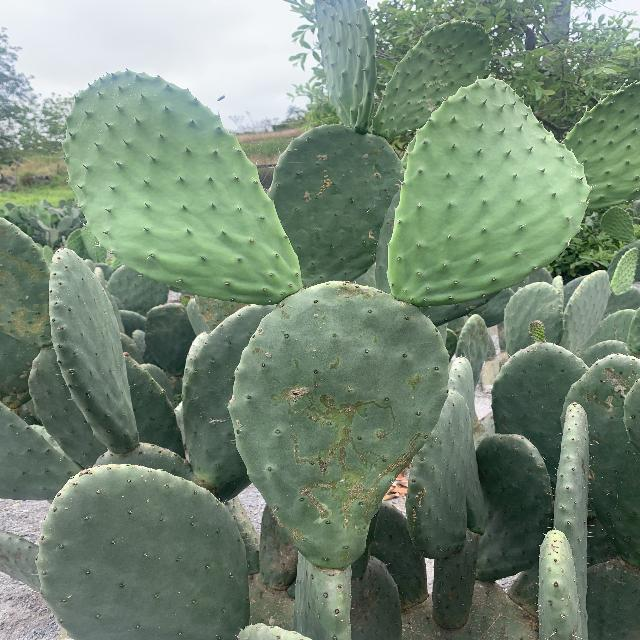Cortar: (23, 113, 297, 252), (183, 285, 325, 473), (104, 479, 221, 639), (300, 419, 412, 519), (2, 338, 70, 436), (344, 286, 458, 337), (73, 363, 117, 469)
Não cortar: (484, 62, 640, 182), (293, 52, 451, 152), (509, 231, 566, 278), (135, 335, 186, 376)
